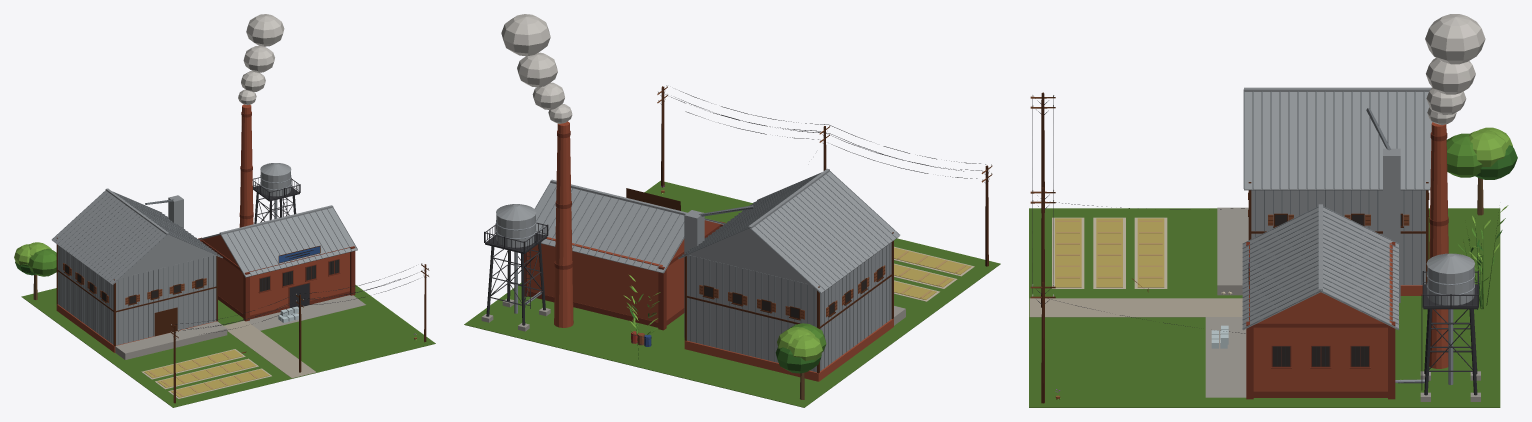
The model's file is factory_4.glb.
3 views of the same model, side by side, from view 1: azimuth 30°, elevation 25°; view 2: azimuth 150°, elevation 25°; view 3: azimuth 270°, elevation 25° (orthographic). The views are drawn at different scales.
Visible parts, largest first — view 1: body, windows; view 2: body, windows; view 3: body, windows.
Part boxes in pixels (x1=…): body: x1=14, y1=14, x2=435, y2=407; windows: x1=65, y1=259, x2=339, y2=303; body: x1=464, y1=14, x2=1000, y2=407; windows: x1=704, y1=267, x2=882, y2=318; body: x1=1029, y1=14, x2=1517, y2=407; windows: x1=1272, y1=215, x2=1401, y2=366.
Bounding box in the file's own units: 32.93 × 27.45 × 33.09.
